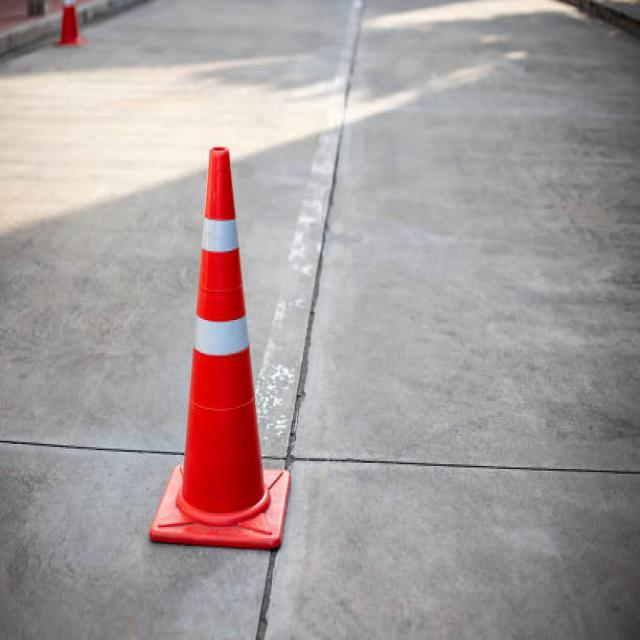Traffic Cone: (109, 111, 328, 566)
